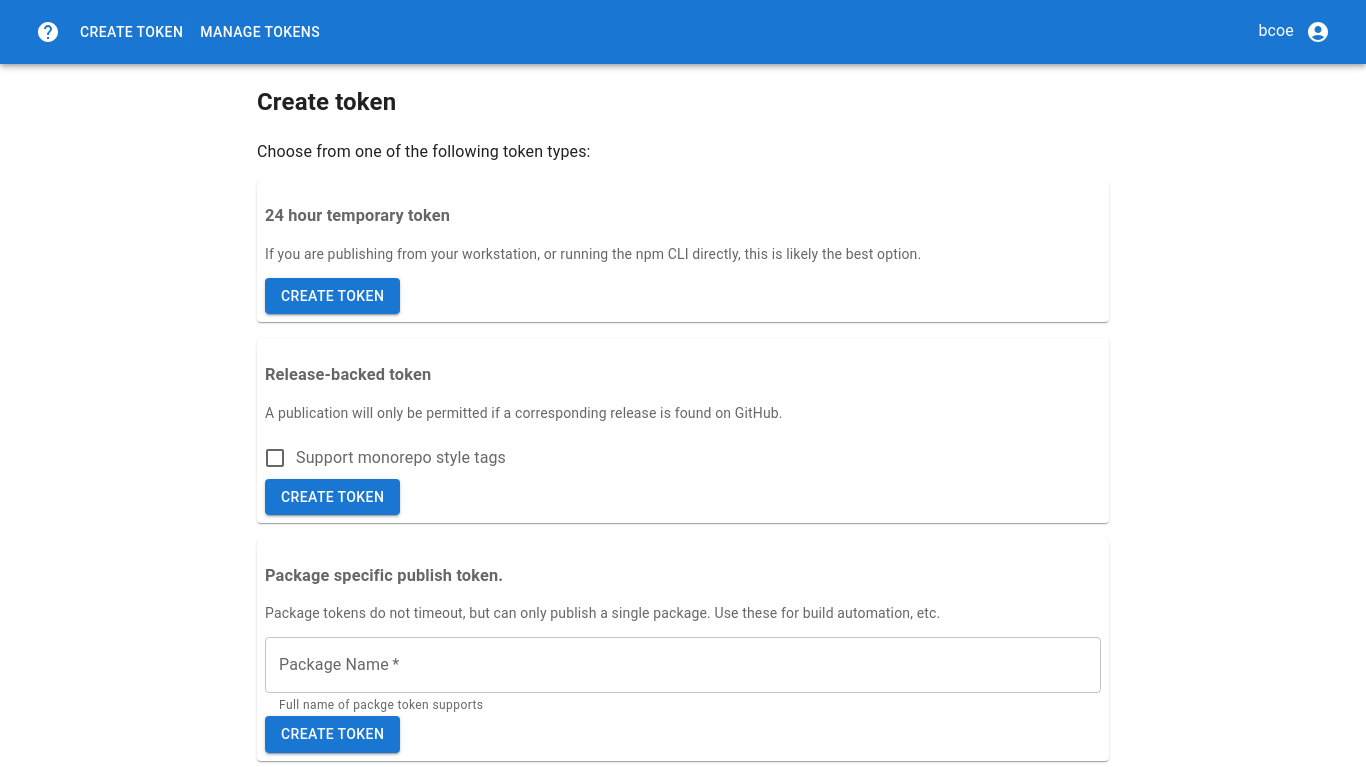
Test: allows package specific token to be created
The image size is (1366, 767).
Check: the heading "24 hour temporary token" is shown, box [265,206,450,225]
Type "@bcoe/foo" into the field with placeholder "@googleapis/leftpad" at (683, 665), box [265,637,1101,693]
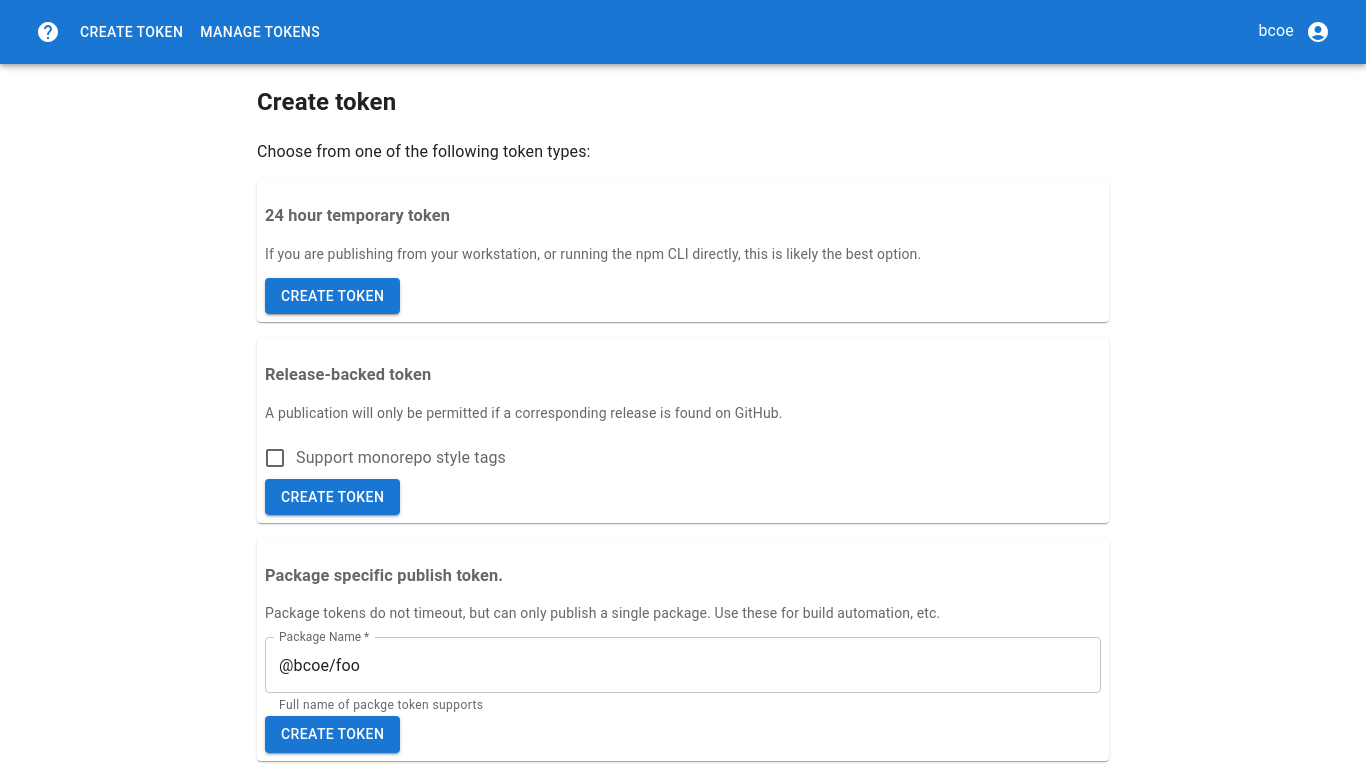
Click the button with test id "package" at (333, 734), box [265,716,400,753]
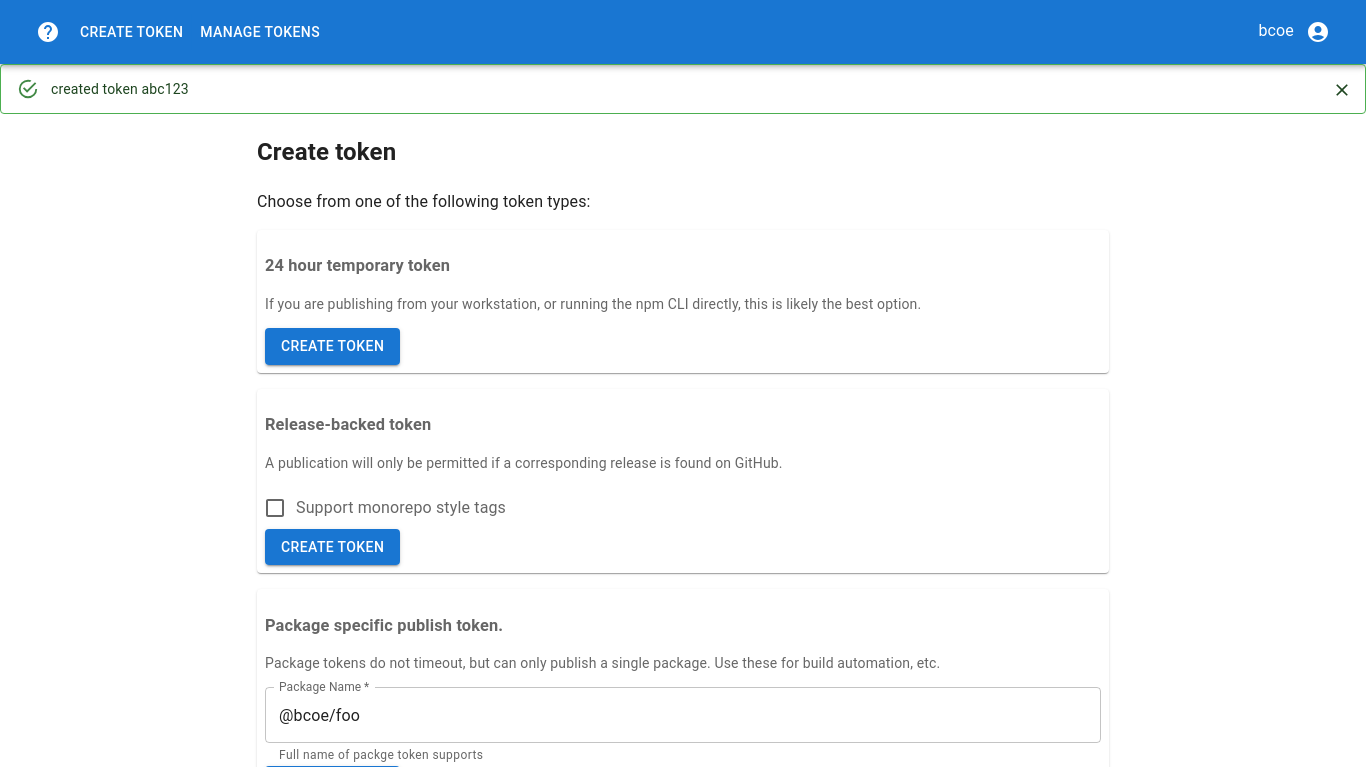
Check: the text "created token abc123" is shown, box [51,81,189,97]
